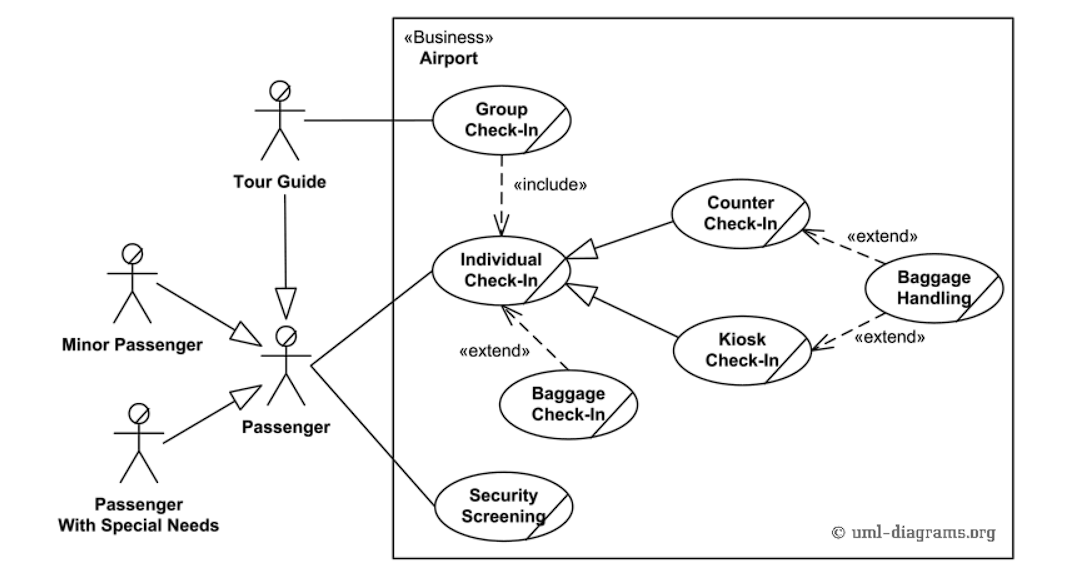actor: (112, 400, 166, 487), (254, 77, 307, 162), (107, 240, 158, 326), (262, 324, 312, 408)
association: (311, 364, 432, 506), (309, 271, 432, 367), (502, 303, 573, 368), (813, 310, 884, 354), (802, 228, 887, 262), (491, 154, 513, 235), (303, 114, 431, 127)
generalization: (156, 280, 262, 349), (162, 383, 265, 445), (566, 280, 674, 335), (566, 219, 673, 263), (273, 194, 298, 322)
text: (54, 494, 223, 538), (892, 265, 985, 310), (402, 23, 496, 67), (455, 246, 546, 291), (458, 484, 552, 527), (58, 333, 205, 359), (700, 194, 785, 238), (528, 381, 611, 426), (702, 327, 780, 371), (466, 95, 541, 140), (237, 417, 340, 442), (232, 171, 331, 193), (453, 339, 533, 363), (514, 173, 595, 195), (851, 328, 931, 350), (846, 225, 919, 247)
use_case: (431, 82, 573, 158), (864, 250, 1006, 326), (430, 234, 573, 309), (670, 177, 814, 251), (671, 314, 814, 388), (498, 368, 640, 442), (433, 469, 575, 543)
